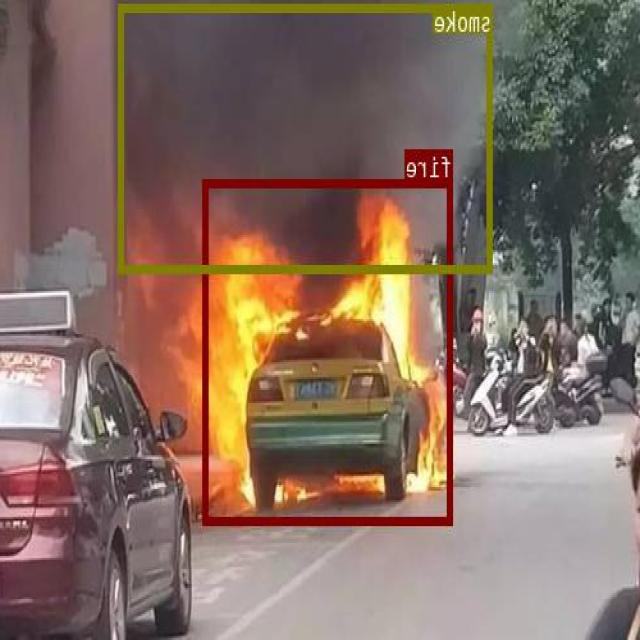fire: (204, 179, 454, 523)
smoke: (120, 3, 493, 272)
